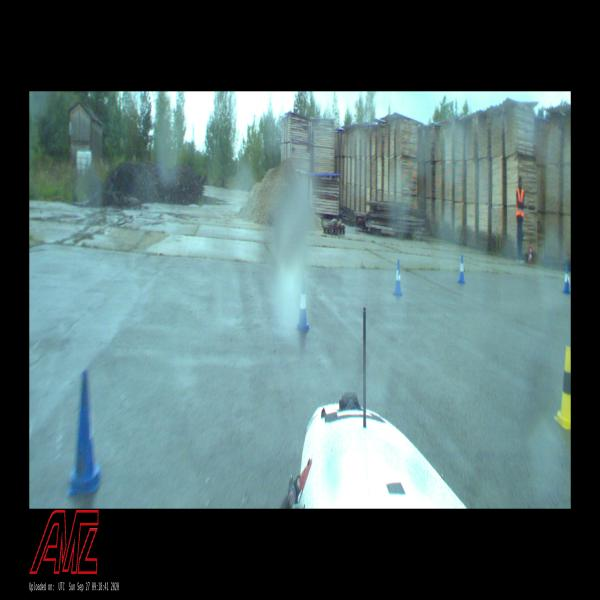blue_cone: (66, 370, 102, 494), (295, 279, 310, 331), (393, 260, 402, 295), (563, 265, 571, 293), (457, 255, 465, 282)
yellow_cone: (554, 347, 571, 428)
